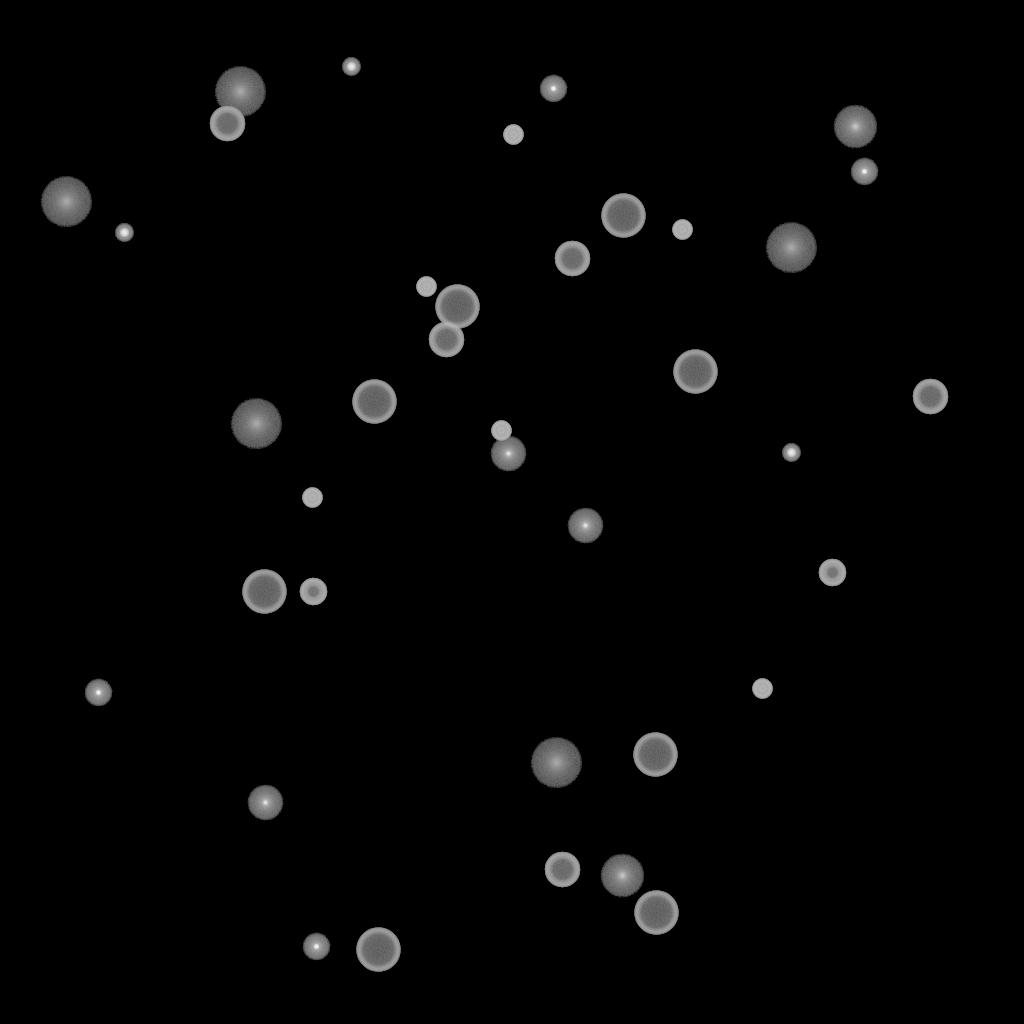depth:-10: (850, 158, 878, 186), (84, 679, 112, 707), (539, 75, 567, 103), (302, 933, 330, 961)
depth:-20: (782, 444, 800, 462), (115, 224, 133, 242), (342, 58, 360, 76)
depth:-40: (503, 125, 523, 145), (752, 679, 772, 699), (302, 488, 322, 508), (491, 421, 511, 441), (672, 220, 692, 240), (416, 277, 436, 297)
depth:-50: (299, 578, 327, 606), (818, 559, 846, 587)
depth:-60: (554, 241, 590, 277), (209, 106, 245, 142), (544, 852, 580, 888), (912, 379, 948, 415), (428, 322, 464, 358)
depth:-70: (633, 733, 677, 777), (435, 285, 479, 329), (634, 891, 678, 935), (352, 380, 396, 424), (673, 350, 717, 394), (356, 928, 400, 972), (242, 570, 286, 614), (601, 194, 645, 238)
depth:0: (567, 508, 603, 544), (247, 785, 283, 821), (490, 436, 526, 472)
depth:10: (600, 854, 644, 898), (833, 105, 877, 149)
depth:20: (230, 399, 282, 449), (214, 67, 266, 117), (765, 223, 817, 273), (530, 738, 582, 788), (40, 177, 92, 227)
